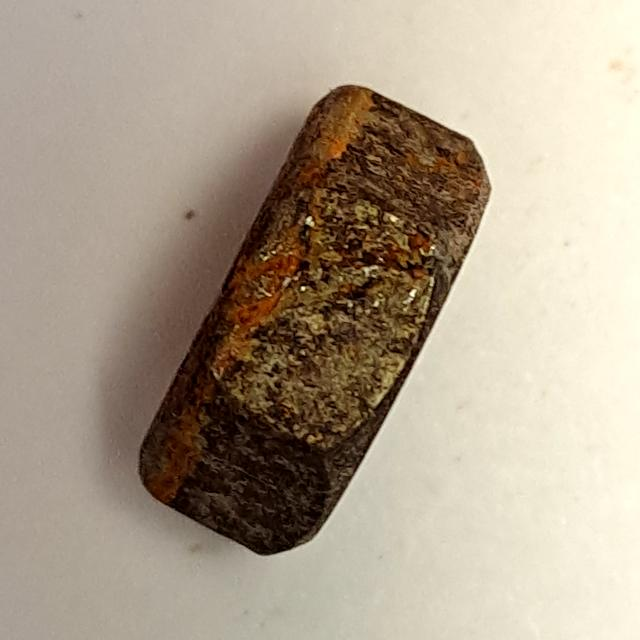Rust: (102, 74, 503, 575)
